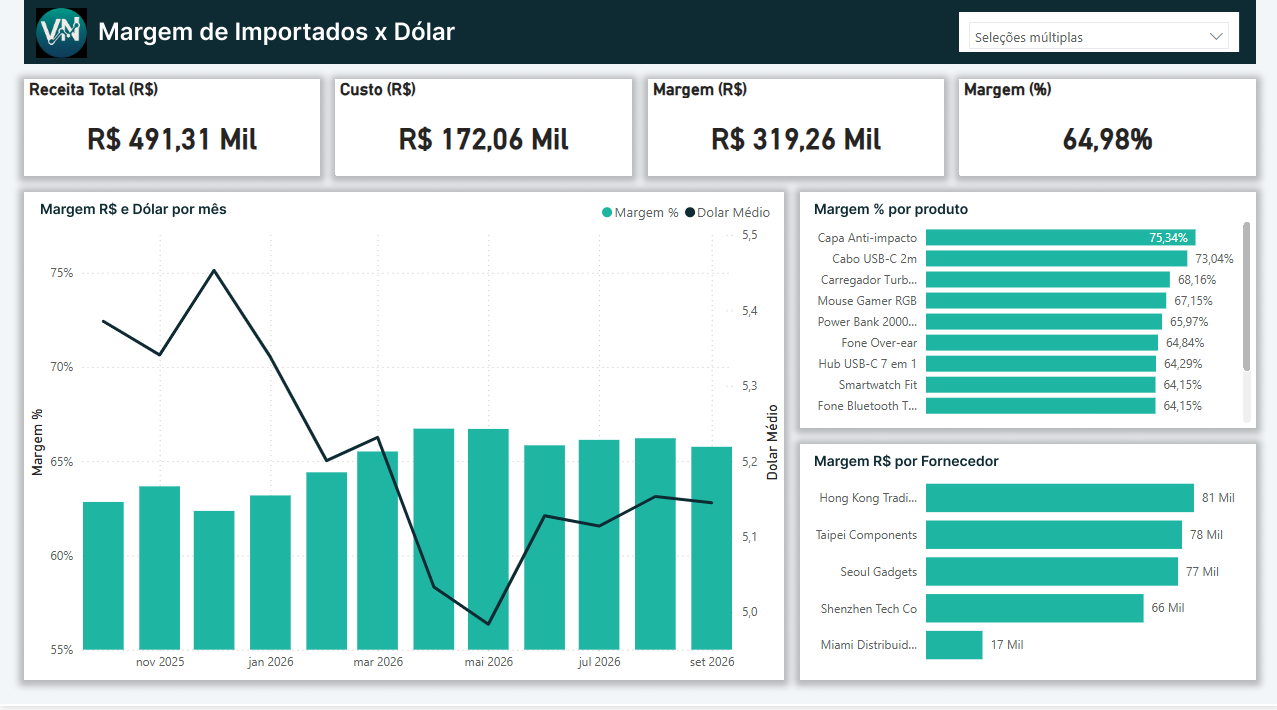

What the dashboard file says about the page in this screenshot:
{"tool":"powerbi","page":{"name":"Página 1","canvas":[1280,720],"ordinal":0},"visuals":[{"type":"card","title":"Receita Total (R$)","fields":{"Values":["Vendas.Receita_Total"]},"box":[24,93,296,96],"z":0},{"type":"card","title":"Custo (R$)","fields":{"Values":["Vendas.Custo R$"]},"box":[335,93,297,96],"z":1000},{"type":"card","title":"Margem (R$)","fields":{"Values":["Vendas.Margem R$"]},"box":[648,93,296,96],"z":2000},{"type":"card","title":"Margem (%)","fields":{"Values":["Vendas.Margem %"]},"box":[959,93,297,96],"z":3000},{"type":"lineClusteredColumnComboChart","fields":{"Category":["dCalendario.Date"],"Y":["Vendas.Margem %"],"Y2":["Vendas.Dolar_Medio"]},"box":[24,206,760,488],"z":3001},{"type":"clusteredBarChart","fields":{"Category":["Vendas.nome"],"Y":["Vendas.Margem %"]},"box":[799,222,457,220],"z":3002},{"type":"clusteredBarChart","fields":{"Category":["Vendas.fornecedor"],"Y":["Vendas.Margem R$"]},"box":[799,470,457,224],"z":3003},{"type":"image","box":[36,16,51,62],"z":3004},{"type":"slicer","fields":{"Values":["dProdutos.categoria"]},"box":[958.8,26.5,280.6,40],"z":3005}]}

Visuals, with their boxes in screenshot pixels (x1, y1, x2, y2), scaled from the page's 1280x720 canvas onto the 1277x710 screenshot:
"Receita Total (R$)" card: detection(24, 92, 319, 186)
"Custo (R$)" card: detection(334, 92, 631, 186)
"Margem (R$)" card: detection(646, 92, 942, 186)
"Margem (%)" card: detection(957, 92, 1253, 186)
lineClusteredColumnComboChart - dCalendario.Date x Vendas.Margem %: detection(24, 203, 782, 684)
clusteredBarChart - Vendas.nome x Vendas.Margem %: detection(797, 219, 1253, 436)
clusteredBarChart - Vendas.fornecedor x Vendas.Margem R$: detection(797, 463, 1253, 684)
image: detection(36, 16, 87, 77)
slicer - dProdutos.categoria: detection(957, 26, 1236, 66)
